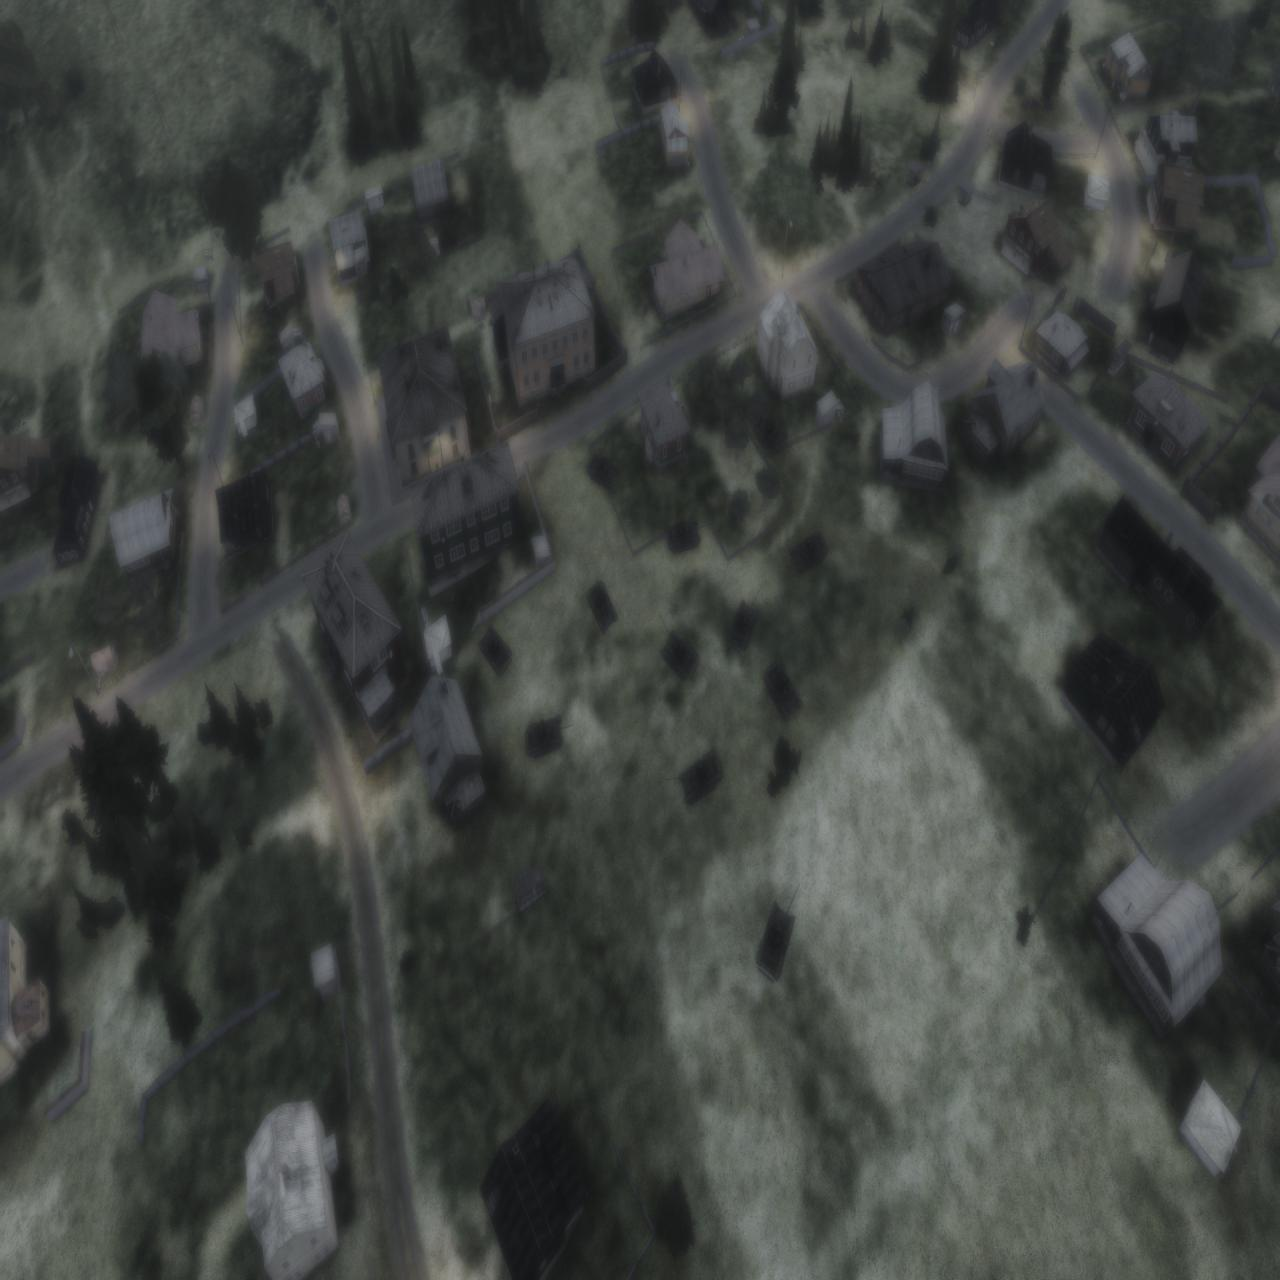MIL_Veh: (755, 883, 804, 980), (678, 736, 724, 808), (658, 607, 700, 684), (765, 655, 803, 722), (726, 586, 763, 649), (583, 576, 621, 635), (790, 527, 830, 581), (522, 711, 566, 760), (477, 622, 513, 680), (665, 516, 706, 552)
